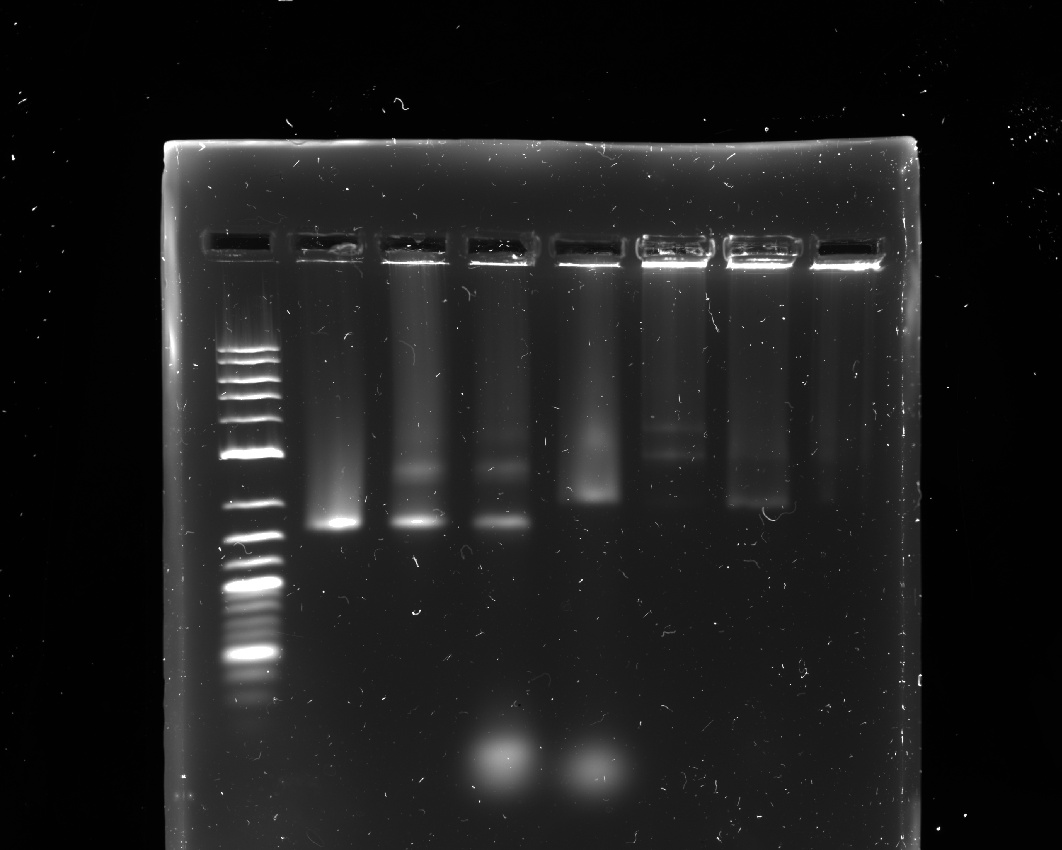Lane: (464, 180, 544, 850), (720, 194, 800, 850), (635, 186, 714, 837), (552, 182, 629, 833), (374, 176, 448, 850), (814, 194, 882, 850), (298, 168, 360, 850)
ladder: (198, 174, 284, 850)
